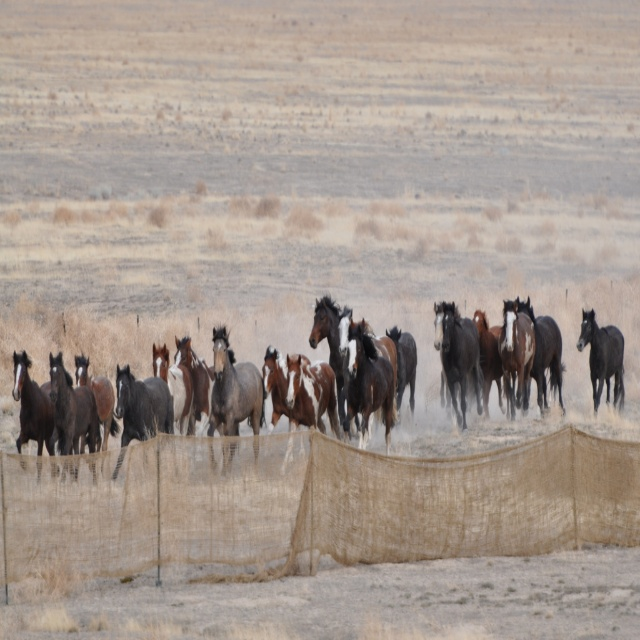Horse: (11, 290, 625, 486)
